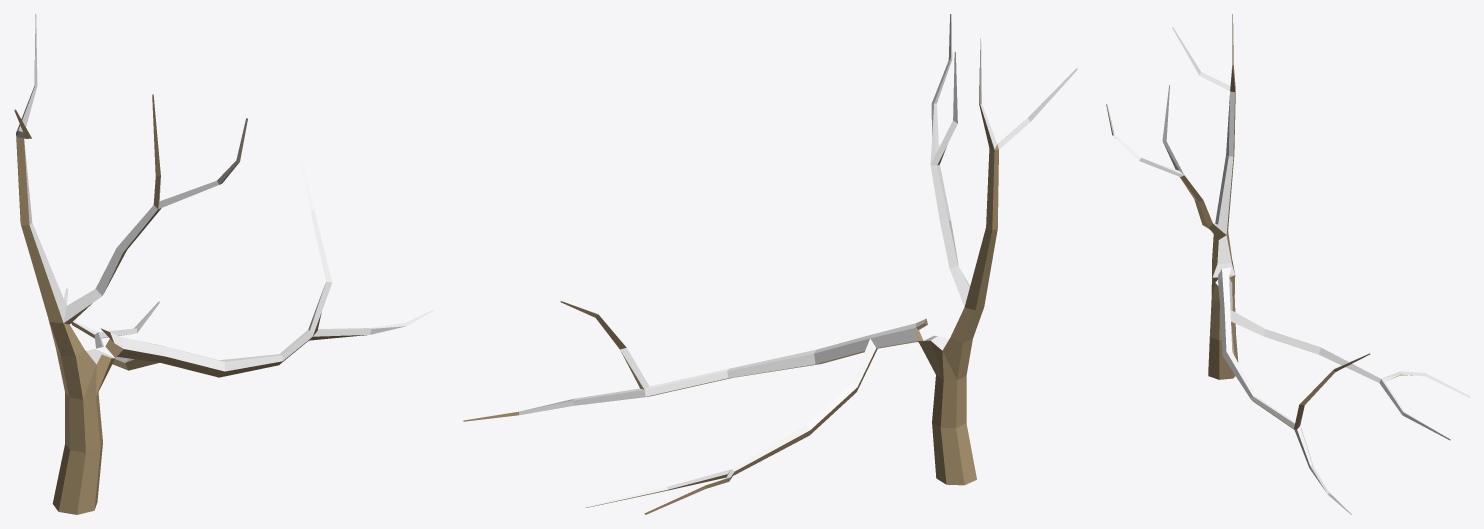
The model's file is Acacia_Tree_NoLeaves_crk_l_Snow_BT_02.fbx.
3 renders of one model, left to right at view 1: azimuth 30°, elevation 25°; view 2: azimuth 150°, elevation 25°; view 3: azimuth 270°, elevation 25°, orthographic. The views are drawn at different scales.
Parts seen in each view (by area): view 1: Acacia_Tree_NoLeaves_crk_l_Snow_BT_02; view 2: Acacia_Tree_NoLeaves_crk_l_Snow_BT_02; view 3: Acacia_Tree_NoLeaves_crk_l_Snow_BT_02.
Boxes of the visible parts, x1,y1,x2,y2 form: Acacia_Tree_NoLeaves_crk_l_Snow_BT_02: [14, 14, 434, 514]; Acacia_Tree_NoLeaves_crk_l_Snow_BT_02: [463, 14, 1077, 514]; Acacia_Tree_NoLeaves_crk_l_Snow_BT_02: [1106, 14, 1469, 514].
Bounding box in the file's own units: 1207 × 1041 × 987.
